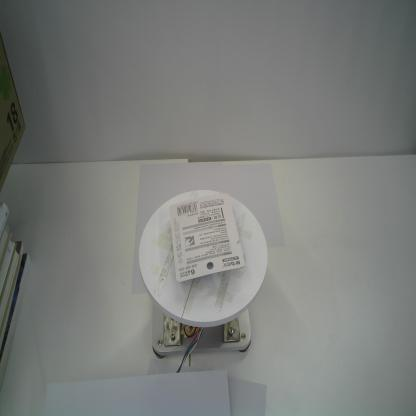Stationery: (170, 192, 245, 283)
